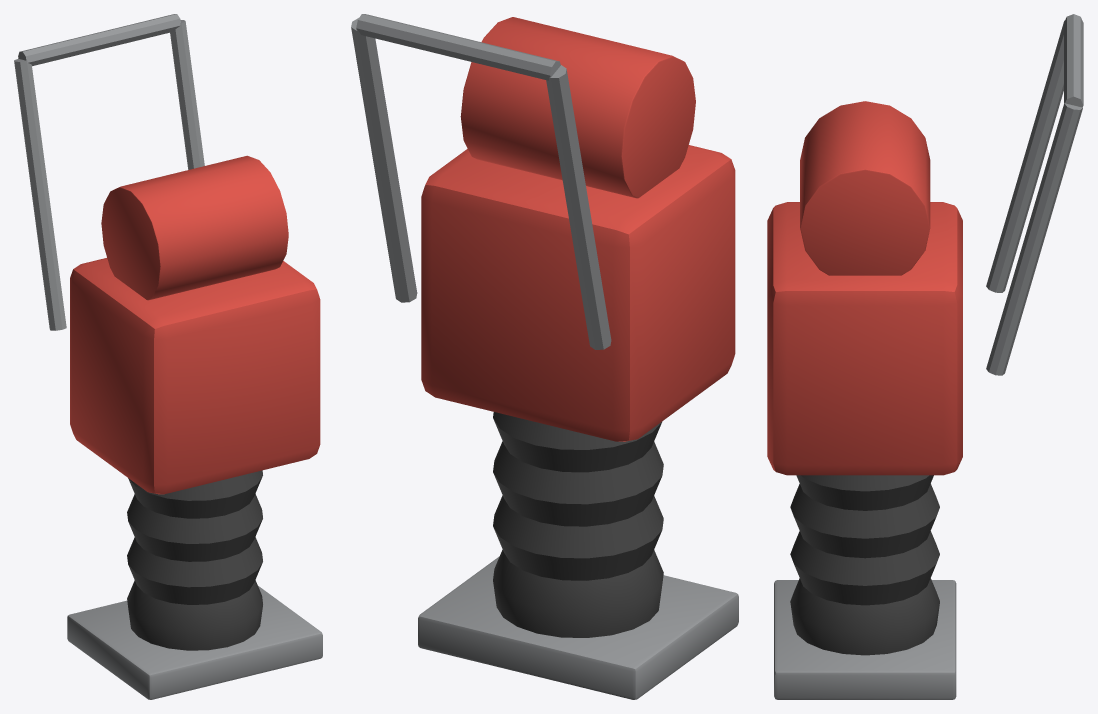
Rendered from EQP-CMP-006.glb.
3 renders of one model, left to right at view 1: azimuth 30°, elevation 25°; view 2: azimuth 150°, elevation 25°; view 3: azimuth 270°, elevation 25°, orthographic. The views are drawn at different scales.
Visible parts, largest first — view 1: EQP-CMP-006_motor, EQP-CMP-006_fole, EQP-CMP-006_tanque, EQP-CMP-006_sapata, EQP-CMP-006_alca1, EQP-CMP-006_alca3, EQP-CMP-006_alca2; view 2: EQP-CMP-006_motor, EQP-CMP-006_fole, EQP-CMP-006_tanque, EQP-CMP-006_sapata, EQP-CMP-006_alca1, EQP-CMP-006_alca2, EQP-CMP-006_alca3; view 3: EQP-CMP-006_motor, EQP-CMP-006_fole, EQP-CMP-006_tanque, EQP-CMP-006_sapata, EQP-CMP-006_alca2, EQP-CMP-006_alca1, EQP-CMP-006_alca3.
Boxes of the visible parts, x1,y1,x2,y2 form: EQP-CMP-006_motor: [70, 258, 320, 494]; EQP-CMP-006_fole: [127, 470, 262, 650]; EQP-CMP-006_tanque: [101, 155, 288, 300]; EQP-CMP-006_sapata: [67, 586, 322, 699]; EQP-CMP-006_alca1: [14, 58, 66, 330]; EQP-CMP-006_alca3: [18, 14, 180, 66]; EQP-CMP-006_alca2: [170, 20, 204, 169]; EQP-CMP-006_motor: [421, 145, 735, 441]; EQP-CMP-006_fole: [493, 412, 663, 637]; EQP-CMP-006_tanque: [460, 17, 695, 198]; EQP-CMP-006_sapata: [418, 556, 738, 699]; EQP-CMP-006_alca1: [546, 65, 611, 349]; EQP-CMP-006_alca2: [351, 18, 417, 302]; EQP-CMP-006_alca3: [356, 14, 560, 80]; EQP-CMP-006_motor: [767, 202, 962, 475]; EQP-CMP-006_fole: [790, 475, 939, 655]; EQP-CMP-006_tanque: [800, 101, 930, 275]; EQP-CMP-006_sapata: [774, 580, 956, 699]; EQP-CMP-006_alca2: [986, 103, 1082, 375]; EQP-CMP-006_alca1: [986, 20, 1064, 292]; EQP-CMP-006_alca3: [1064, 14, 1083, 107].
Bounding box in the file's own units: 0.34 × 1.01 × 0.485.
